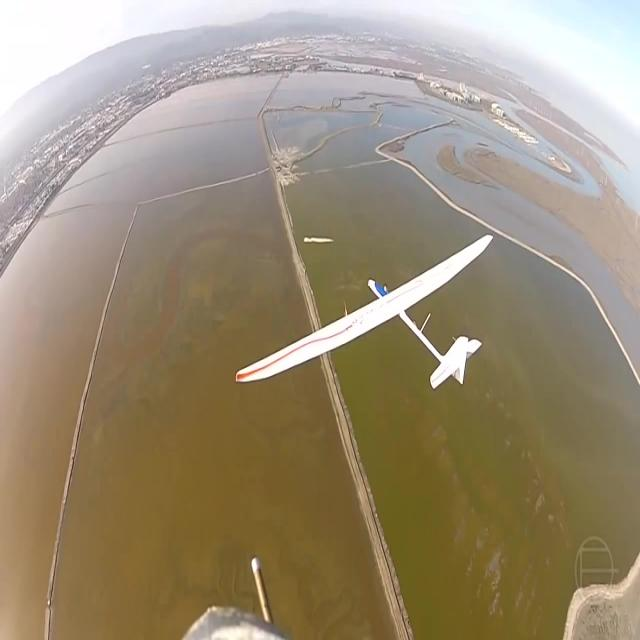iha: (234, 231, 495, 391)
